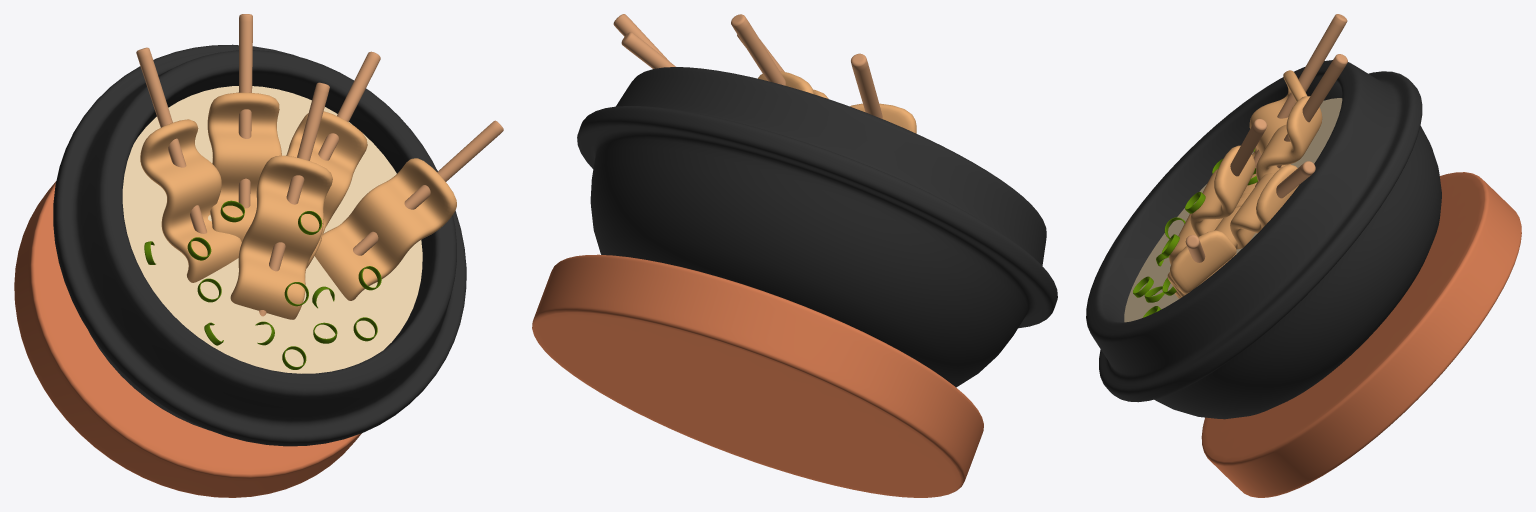
The model's file is odeng.glb.
The picture shows the model from 3 angles, left to right: view 1: azimuth 30°, elevation 25°; view 2: azimuth 150°, elevation 25°; view 3: azimuth 270°, elevation 25°; orthographic projection. The views are drawn at different scales.
Visible parts, largest first — view 1: Sphere.017, Circle.021, Cylinder.166, Plane.026, Plane.028, Plane.027, Plane.030, Plane.029, Cylinder.167, Cylinder.169, Cylinder.171, Cylinder.168 (+1 smaller); view 2: Sphere.017, Cylinder.166, Cylinder.171, Cylinder.168, Cylinder.170, Plane.027; view 3: Sphere.017, Cylinder.166, Circle.021, Plane.026, Plane.029, Plane.030, Plane.028, Cylinder.168, Plane.027, Cylinder.171, Cylinder.167, Cylinder.170.
Part boxes in pixels (x1,y1,x2,y2): Sphere.017: (53, 44, 466, 446); Circle.021: (122, 86, 422, 373); Cylinder.166: (14, 181, 361, 497); Plane.026: (230, 155, 332, 319); Plane.028: (314, 158, 456, 300); Plane.027: (140, 119, 241, 282); Plane.030: (207, 92, 281, 241); Plane.029: (286, 111, 367, 268); Cylinder.167: (259, 82, 329, 316); Cylinder.169: (353, 120, 503, 255); Cylinder.171: (238, 14, 252, 208); Cylinder.168: (136, 47, 206, 233); Sphere.017: (577, 67, 1057, 387); Cylinder.166: (532, 254, 983, 497); Cylinder.171: (731, 14, 785, 85); Cylinder.168: (851, 53, 882, 118); Cylinder.170: (621, 32, 675, 68); Plane.027: (850, 103, 916, 133); Sphere.017: (1086, 60, 1441, 419); Cylinder.166: (1201, 172, 1521, 497); Circle.021: (1124, 98, 1342, 322); Plane.026: (1169, 145, 1255, 264); Plane.029: (1214, 164, 1298, 249); Plane.030: (1235, 96, 1322, 207); Plane.028: (1167, 230, 1236, 298); Cylinder.168: (1253, 14, 1347, 167); Plane.027: (1249, 70, 1307, 157); Cylinder.171: (1255, 54, 1347, 186); Cylinder.167: (1230, 118, 1267, 176); Cylinder.170: (1276, 161, 1315, 198).
Size of the model in its own units: 2.84 by 2.97 by 2.72.
